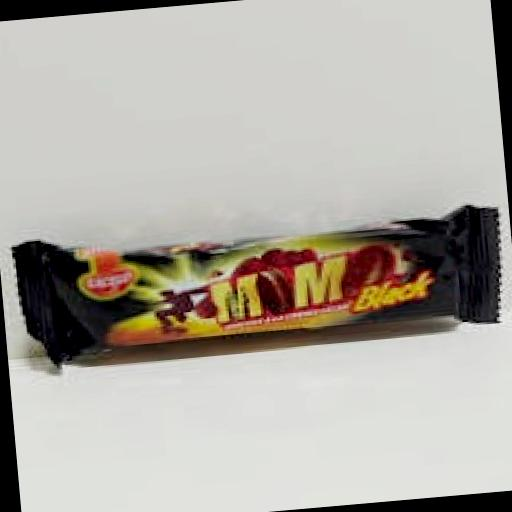MOMO: (0, 162, 512, 412)
